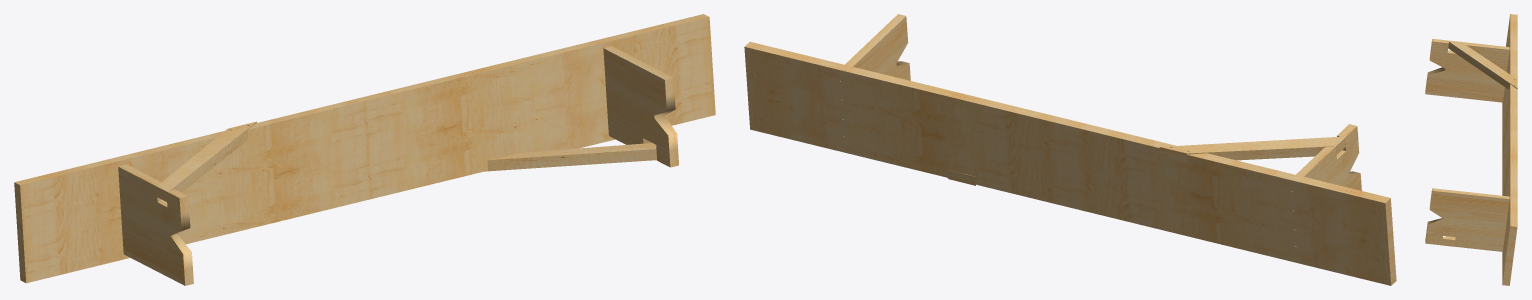
File: bench.fbx
The picture shows the model from 3 angles, left to right: view 1: azimuth 30°, elevation 25°; view 2: azimuth 150°, elevation 25°; view 3: azimuth 270°, elevation 25°; orthographic projection. The views are drawn at different scales.
Parts seen in each view (by area): view 1: pCube1 (×2), pCube2 (×2), pCube3 (×2); view 2: pCube1 (×2), pCube2 (×2), pCube3; view 3: pCube2 (×2), pCube1 (×2), pCube3 (×2).
Boxes of the visible parts, left/top/right/bottom form: pCube1 (×2): left=14, top=14, right=715, bottom=283; pCube2 (×2): left=118, top=46, right=678, bottom=285; pCube3 (×2): left=156, top=121, right=656, bottom=201; pCube1 (×2): left=744, top=41, right=1396, bottom=285; pCube2 (×2): left=845, top=14, right=1361, bottom=190; pCube3: left=1159, top=136, right=1345, bottom=162; pCube2 (×2): left=1425, top=39, right=1509, bottom=251; pCube1 (×2): left=1502, top=14, right=1517, bottom=285; pCube3 (×2): left=1442, top=40, right=1517, bottom=246.
Bounding box in the file's own units: 19.51 × 2.83 × 3.59.
